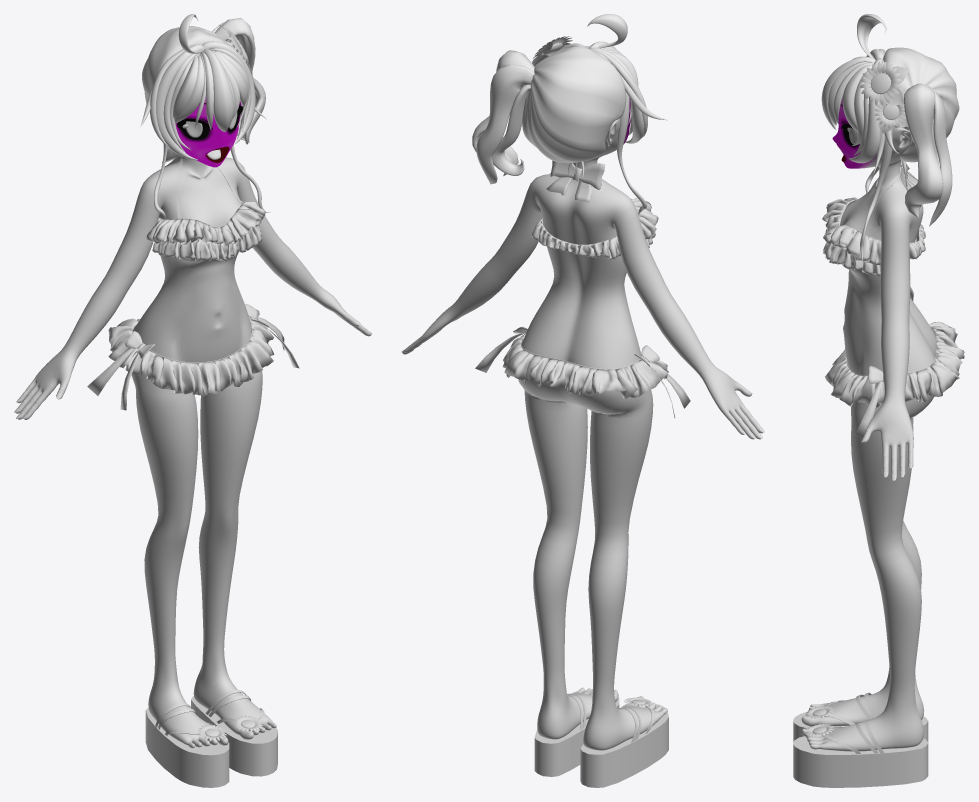
The picture shows the model from 3 angles, left to right: view 1: azimuth 30°, elevation 25°; view 2: azimuth 150°, elevation 25°; view 3: azimuth 270°, elevation 25°; orthographic projection.
Parts seen in each view (by area): view 1: body58, shoes.011, Ruffles.001, frontHair.010, sideHair.007, Ruffles.005, Ruffles.004, ribbon.011, backHair.021, tailHair, himawari.001; view 2: body58, backHair.021, shoes.011, tailHair, Ruffles.001, sideHair.007, Ruffles.005, pantsu.009, ribbon.010, ribbon.011, frontHair.010; view 3: body58, shoes.011, tailHair, Ruffles.001, frontHair.010, backHair.021, sideHair.007, Ruffles.005, himawari.002, Ruffles.004, himawari.003, ribbon.011 (+1 smaller).
Part boxes in pixels (x1,y1,x2,y2): body58: (14,96,372,748); shoes.011: (145,690,277,787); Ruffles.001: (108,316,274,396); frontHair.010: (173,14,249,132); sideHair.007: (140,41,270,221); Ruffles.005: (146,200,265,246); Ruffles.004: (152,226,261,261); ribbon.011: (87,304,299,410); backHair.021: (142,26,228,103); tailHair: (212,18,265,144); himawari.001: (197,716,262,741); body58: (401,98,764,750); backHair.021: (522,46,626,162); shoes.011: (534,691,668,787); tailHair: (472,50,584,184); Ruffles.001: (503,335,668,399); sideHair.007: (550,43,667,215); Ruffles.005: (531,198,658,259); pantsu.009: (518,337,641,412); ribbon.010: (546,160,605,202); ribbon.011: (475,326,690,418); frontHair.010: (585,14,638,124); body58: (801,95,936,751); shoes.011: (793,692,928,787); tailHair: (902,83,952,226); Ruffles.001: (825,321,964,407); frontHair.010: (821,14,886,145); backHair.021: (883,47,959,162); sideHair.007: (848,49,899,264); Ruffles.005: (822,197,925,265); himawari.002: (860,61,908,105); Ruffles.004: (822,223,880,275); himawari.003: (874,100,907,133); ribbon.011: (855,366,883,437).
Bounding box in the file's own units: 79.62 × 159 × 33.18.
